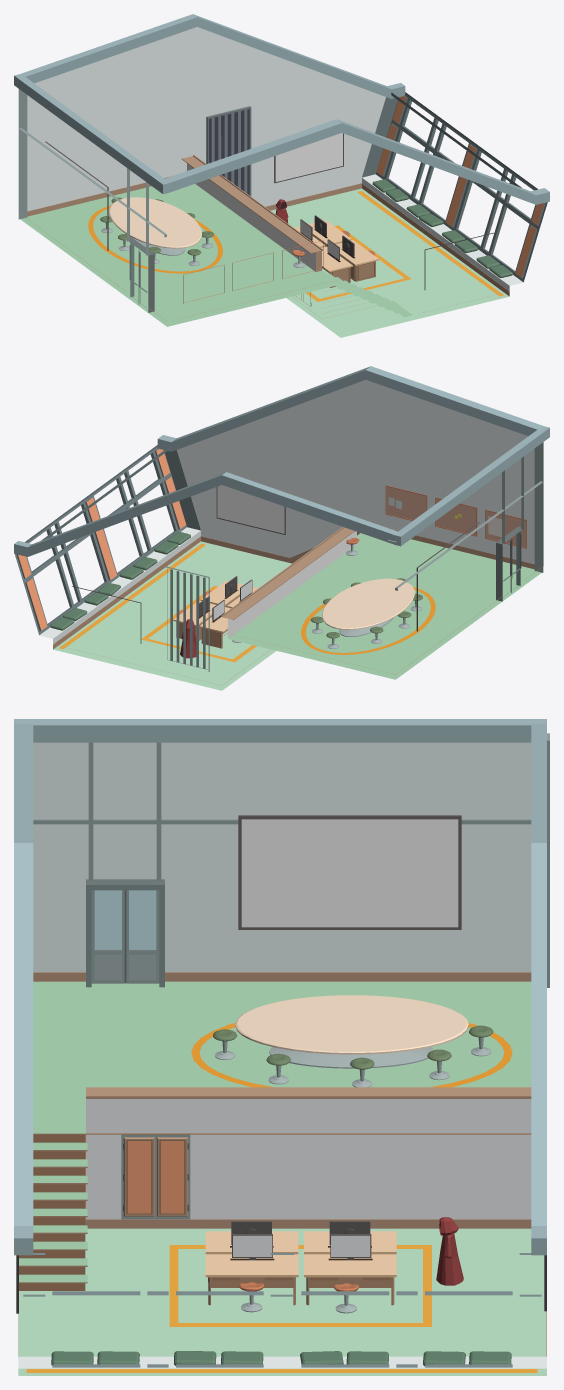
File: Studio_IMU_A.glb
3 views of the same model, one above another, from view 1: azimuth 30°, elevation 25°; view 2: azimuth 150°, elevation 25°; view 3: azimuth 270°, elevation 25° (orthographic). The views are drawn at different scales.
Parts seen in each view (by area): view 1: Mur, HM_Sol, Bords, Verriere, Muret_Mezzanine, Table_reunion, Fenetre, Ecran.002, Structure_facade, Poufs, Zone_Chat_Bureaux, Bureau.002 (+4 smaller); view 2: Mur, HM_Sol, Bords, Verriere, Table_reunion, Muret_Mezzanine, Ecran.003, Structure_facade, Fenetre, Poufs, Zone_Chat_Bureaux, Tableau.003 (+7 smaller); view 3: HM_Sol, Mur, Muret_Mezzanine, Bords, Ecran.001, Table_reunion, Porte, Verriere, Placard, Zone_Chat_Bureaux, Poufs, Bureau.003 (+6 smaller).
Boxes of the visible parts, left/top/right/bottom form: Mur: left=20, top=27, right=509, bottom=320; HM_Sol: left=20, top=184, right=509, bottom=337; Bords: left=14, top=14, right=549, bottom=204; Verriere: left=362, top=92, right=547, bottom=290; Muret_Mezzanine: left=182, top=155, right=322, bottom=318; Table_reunion: left=109, top=197, right=201, bottom=255; Fenetre: left=206, top=106, right=251, bottom=196; Ecran.002: left=274, top=133, right=343, bottom=183; Structure_facade: left=18, top=89, right=166, bottom=255; Poufs: left=372, top=179, right=512, bottom=277; Zone_Chat_Bureaux: left=306, top=191, right=503, bottom=301; Bureau.002: left=336, top=235, right=378, bottom=281; Mur: left=53, top=379, right=543, bottom=685; HM_Sol: left=53, top=533, right=541, bottom=690; Bords: left=14, top=366, right=549, bottom=556; Verriere: left=14, top=445, right=200, bottom=643; Table_reunion: left=322, top=578, right=414, bottom=636; Muret_Mezzanine: left=221, top=527, right=356, bottom=685; Ecran.003: left=216, top=485, right=285, bottom=534; Structure_facade: left=388, top=442, right=543, bottom=590; Fenetre: left=165, top=566, right=209, bottom=671; Poufs: left=50, top=531, right=190, bottom=630; Zone_Chat_Bureaux: left=59, top=543, right=256, bottom=662; Tableau.003: left=385, top=485, right=427, bottom=520; HM_Sol: left=18, top=981, right=546, bottom=1375; Mur: left=18, top=742, right=546, bottom=1356; Muret_Mezzanine: left=85, top=1087, right=531, bottom=1228; Bords: left=14, top=719, right=546, bottom=1255; Ecran.001: left=238, top=815, right=461, bottom=929; Table_reunion: left=235, top=995, right=468, bottom=1068; Porte: left=86, top=879, right=164, bottom=987; Verriere: left=18, top=1253, right=546, bottom=1368; Placard: left=121, top=1134, right=190, bottom=1219; Zone_Chat_Bureaux: left=26, top=1245, right=537, bottom=1372; Poufs: left=51, top=1351, right=511, bottom=1366; Bureau.003: left=304, top=1234, right=396, bottom=1313.
Size of the model in its own units: 19.1 by 10.12 by 12.75.
Materials: 1 (1 with a texture image).
